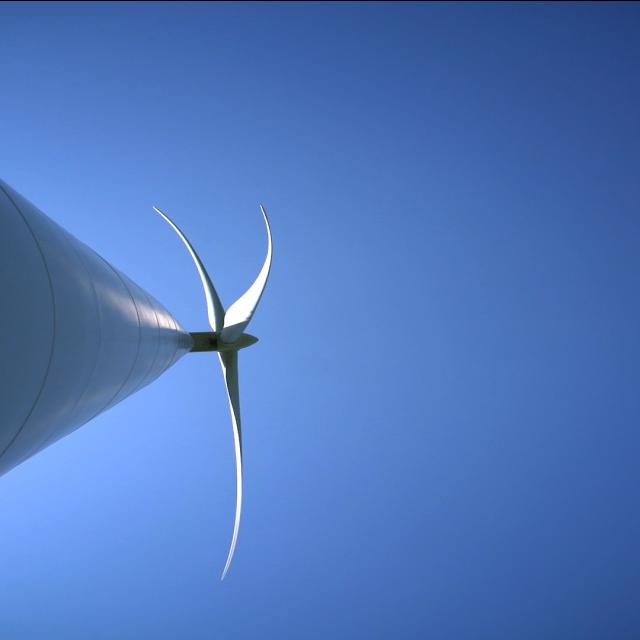blade 1: (145, 202, 219, 272)
blade 2: (190, 371, 282, 587)
blade 3: (235, 179, 291, 329)
